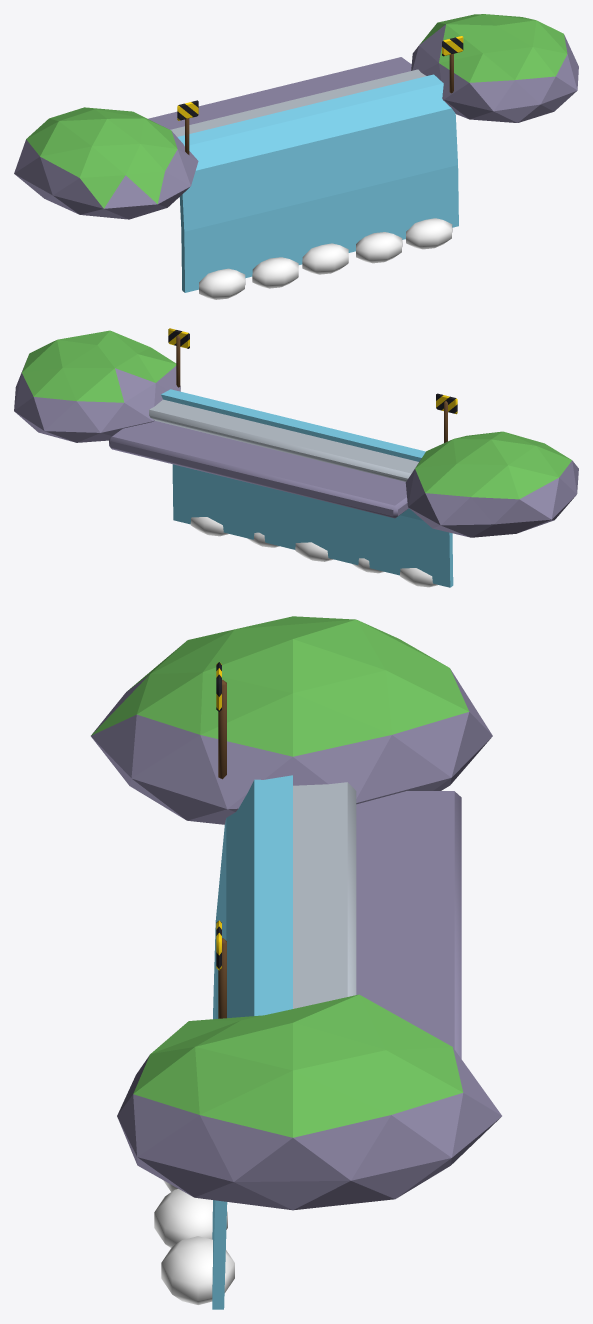
File: H17_WaterfallEdge.fbx
The picture shows the model from 3 angles, top to bottom: view 1: azimuth 30°, elevation 25°; view 2: azimuth 150°, elevation 25°; view 3: azimuth 270°, elevation 25°; orthographic projection. The views are drawn at different scales.
Visible parts, largest first — view 1: Sheet, Static, Mist; view 2: Static, Sheet, Mist; view 3: Static, Sheet, Mist.
Boxes of the visible parts, <box> form: Sheet: <box>177,74,458,292</box>; Static: <box>14,14,578,219</box>; Mist: <box>199,218,452,299</box>; Static: <box>14,328,578,537</box>; Sheet: <box>161,389,453,587</box>; Mist: <box>190,517,437,587</box>; Static: <box>91,616,501,1210</box>; Sheet: <box>212,775,292,1309</box>; Mist: <box>154,1180,234,1304</box>.
Size of the model in its own units: 17.53 by 6.2 by 5.86.
